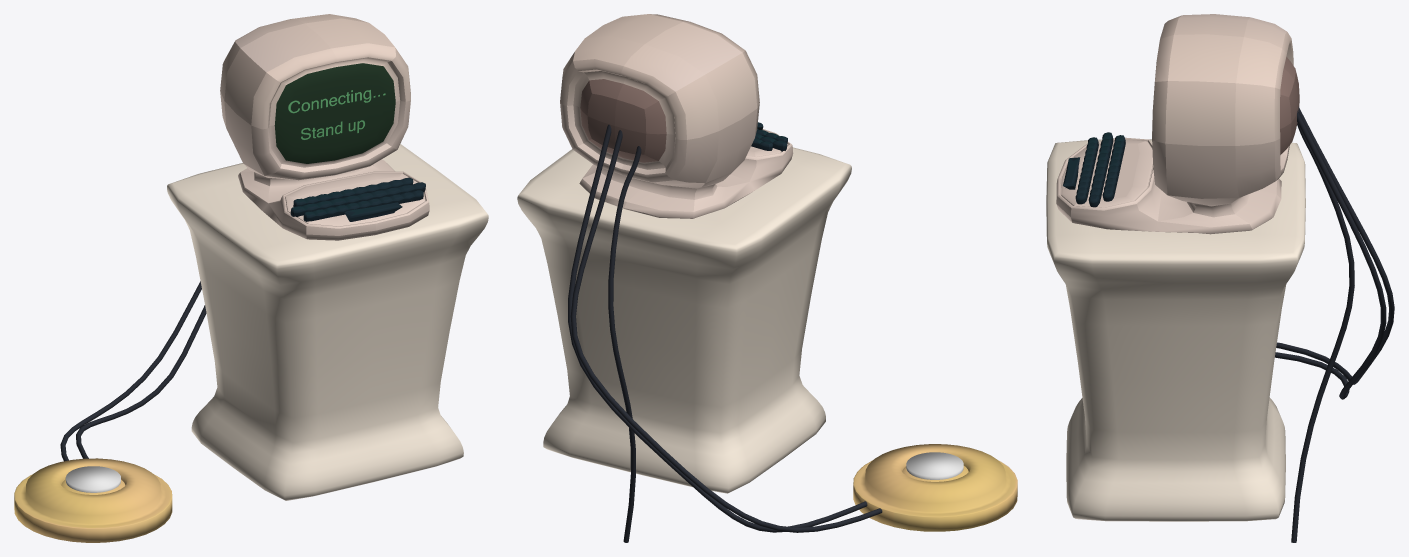
File: Terminal_1.fbx
3 renders of one model, left to right at view 1: azimuth 30°, elevation 25°; view 2: azimuth 150°, elevation 25°; view 3: azimuth 270°, elevation 25°, orthographic. The views are drawn at different scales.
Parts seen in each view (by area): view 1: PC.1, StartScreen, Light; view 2: PC.1, Light; view 3: PC.1.
Part boxes in pixels (x1,y1,x2,y2): PC.1: (14, 14, 488, 542); StartScreen: (274, 63, 395, 163); Light: (65, 466, 120, 492); PC.1: (517, 14, 1017, 542); Light: (906, 452, 963, 479); PC.1: (1046, 14, 1394, 542).
Size of the model in its own units: 189 by 199 by 123.
